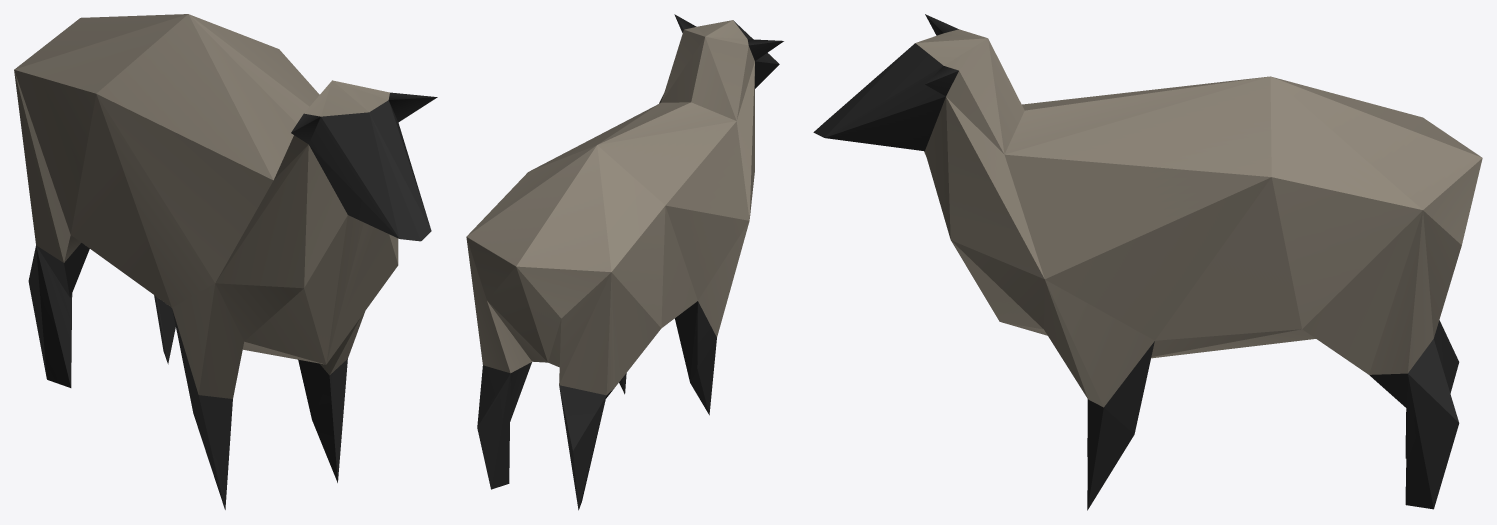
File: sheep_lod2.glb
3 renders of one model, left to right at view 1: azimuth 30°, elevation 25°; view 2: azimuth 150°, elevation 25°; view 3: azimuth 270°, elevation 25°, orthographic. The views are drawn at different scales.
Parts seen in each view (by area): view 1: sheep; view 2: sheep; view 3: sheep.
Part boxes in pixels (x1=…): sheep: x1=14, y1=14, x2=437, y2=509; sheep: x1=466, y1=14, x2=783, y2=510; sheep: x1=813, y1=14, x2=1482, y2=510.
Size of the model in its own units: 0.4805 by 1.03 by 1.4.
